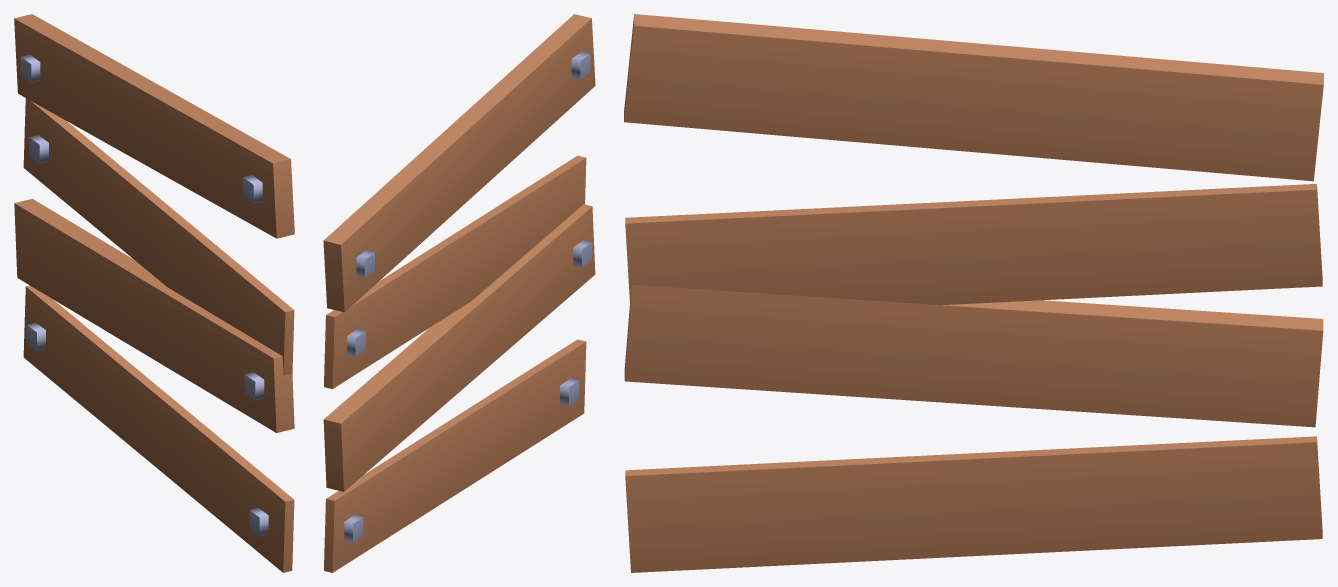
File: barricade-window-b.optimized.glb
The picture shows the model from 3 angles, left to right: view 1: azimuth 30°, elevation 25°; view 2: azimuth 150°, elevation 25°; view 3: azimuth 270°, elevation 25°; orthographic projection. The views are drawn at different scales.
Visible parts, largest first — view 1: barricade-window-b; view 2: barricade-window-b; view 3: barricade-window-b.
Part boxes in pixels (x1=…): barricade-window-b: x1=14, y1=14, x2=294, y2=572; barricade-window-b: x1=323, y1=14, x2=595, y2=572; barricade-window-b: x1=624, y1=14, x2=1323, y2=572.
Size of the model in its own units: 0.0749 by 1.08 by 1.26.
1 material, 1 textured.
